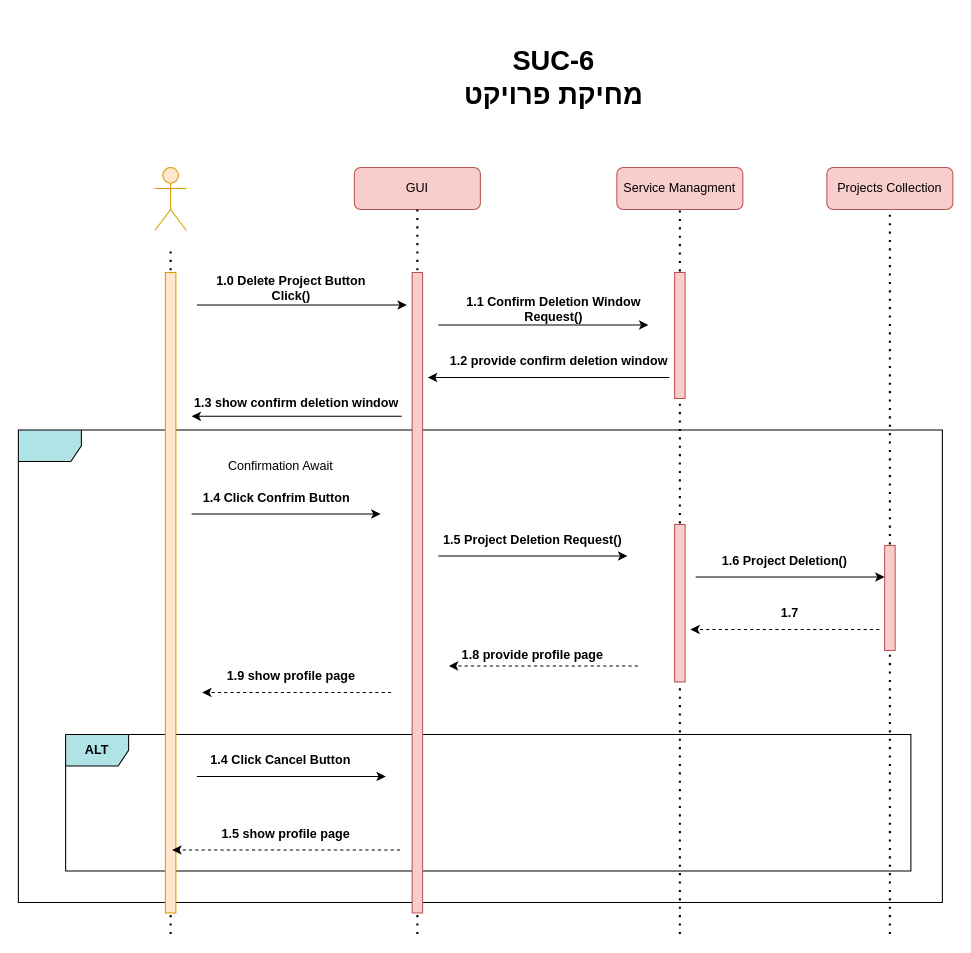
The diagram is 971 pixels wide and 953 high, and some of its shapes have lost their labels. The shapes that lost their labels are listed below. From the top down, each one's box as (x1, y1, x2, y2) in pixels, then its label:
(154, 166, 186, 230): logged in user with exist profile
(17, 429, 942, 902): OPT
